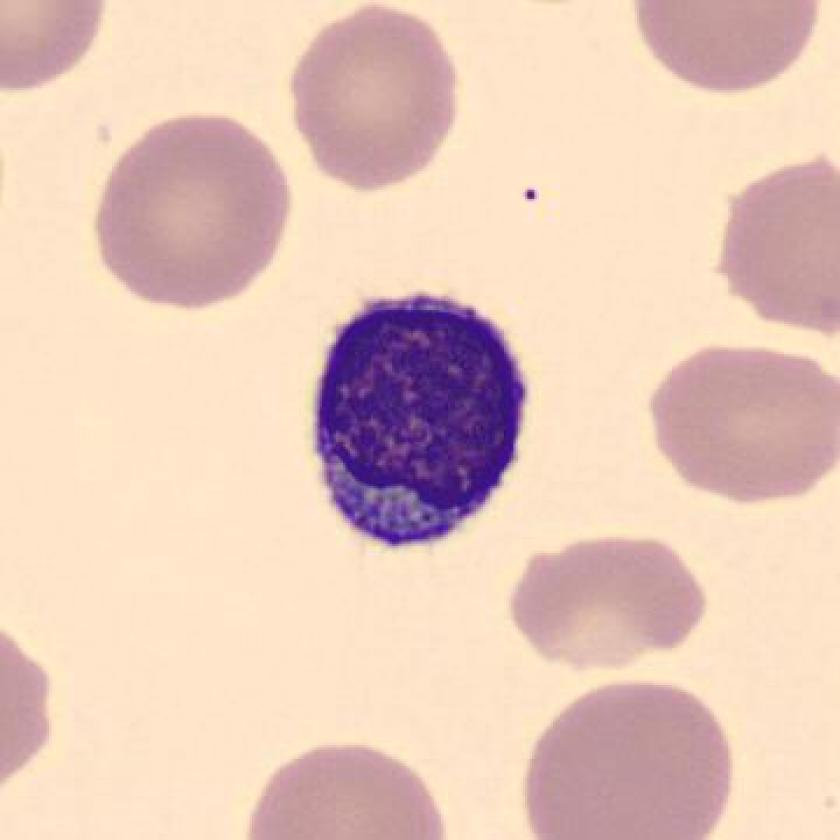lymphocyte: (304, 281, 540, 561)
